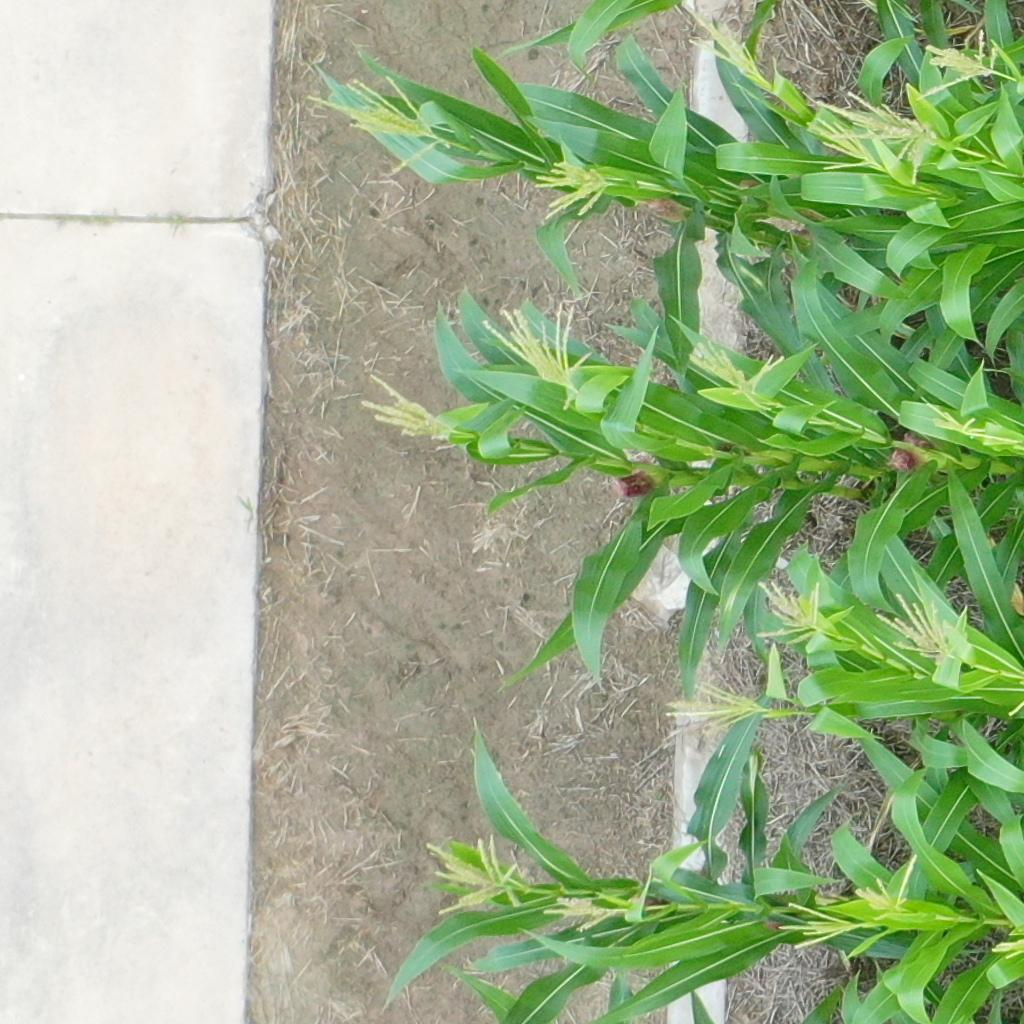Tassel: (302, 73, 452, 178), (480, 306, 593, 413), (816, 87, 936, 185), (423, 832, 525, 915), (681, 1, 773, 87), (874, 589, 968, 667), (688, 337, 785, 410), (359, 373, 460, 442), (915, 28, 1003, 101), (665, 679, 768, 735), (923, 399, 1020, 454), (754, 577, 824, 649), (769, 897, 862, 950), (533, 161, 613, 222), (856, 852, 919, 922), (807, 117, 881, 173), (538, 891, 625, 933), (987, 939, 1024, 958)
